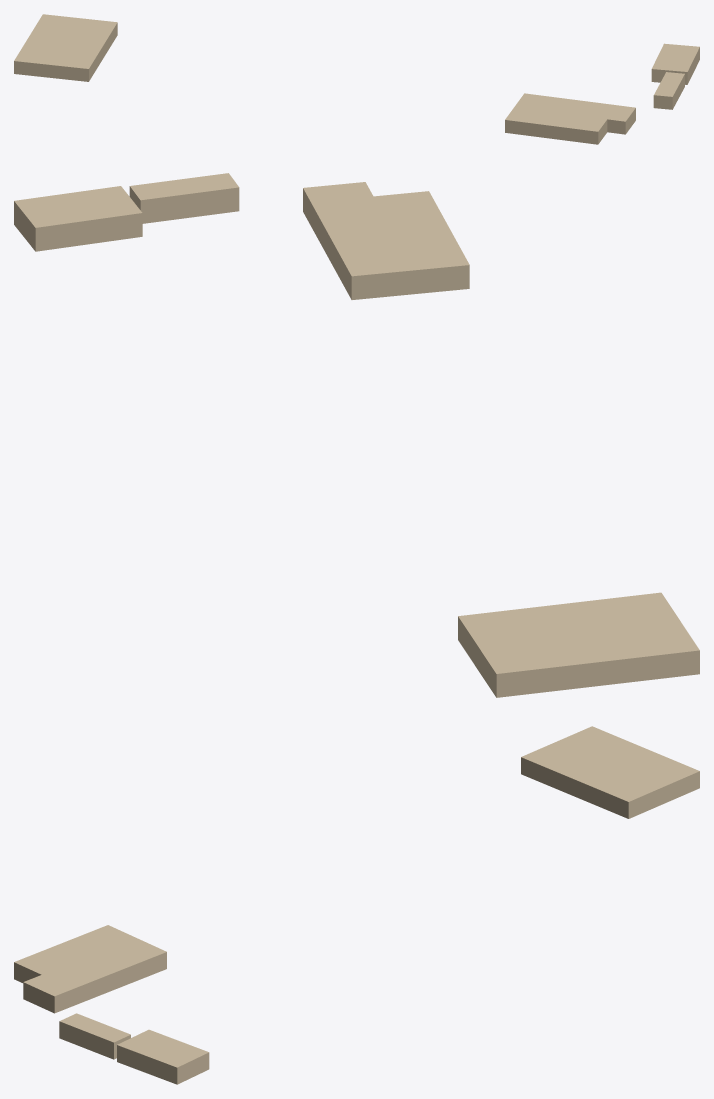
The model's file is -17_15-estimated-coarse.glb.
3 views of the same model, one above another, from view 1: azimuth 30°, elevation 25°; view 2: azimuth 150°, elevation 25°; view 3: azimuth 270°, elevation 25° (orthographic). The views are drawn at different scales.
Size of the model in its own units: 514 by 12 by 436.
